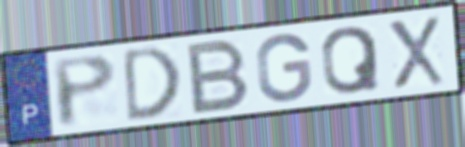B: (186, 36, 253, 117)
D: (121, 43, 183, 126)
G: (254, 31, 314, 104)
P: (49, 51, 120, 130)
Q: (319, 24, 383, 98)
X: (384, 14, 448, 92)
